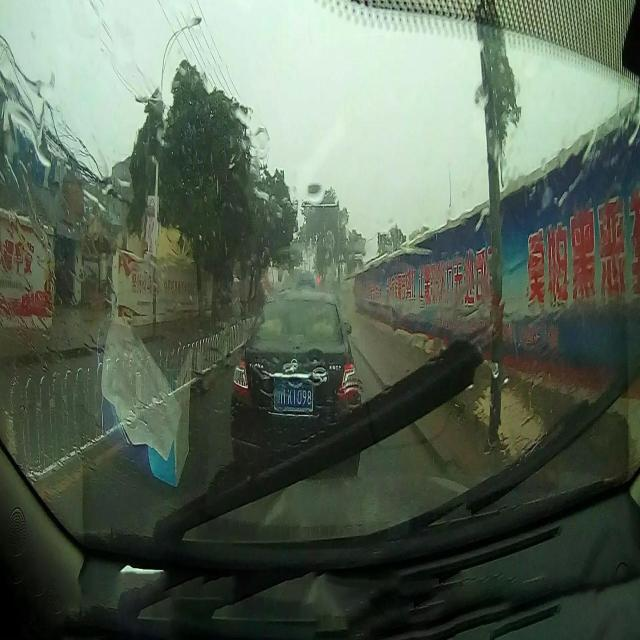car: (230, 288, 360, 482)
